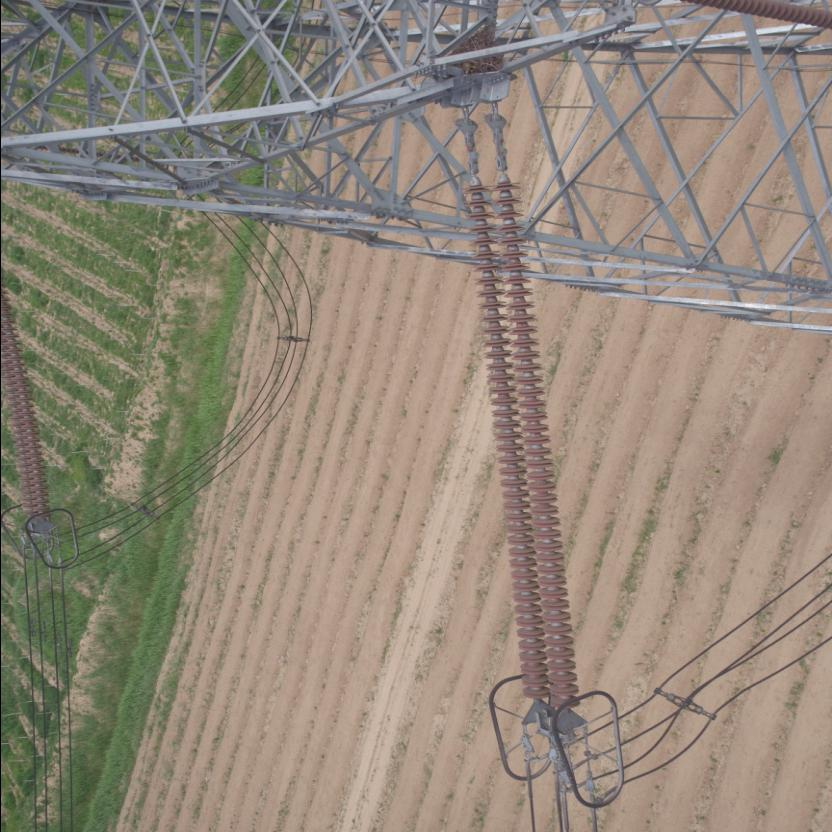insulator: (452, 138, 580, 718), (1, 257, 50, 521)
